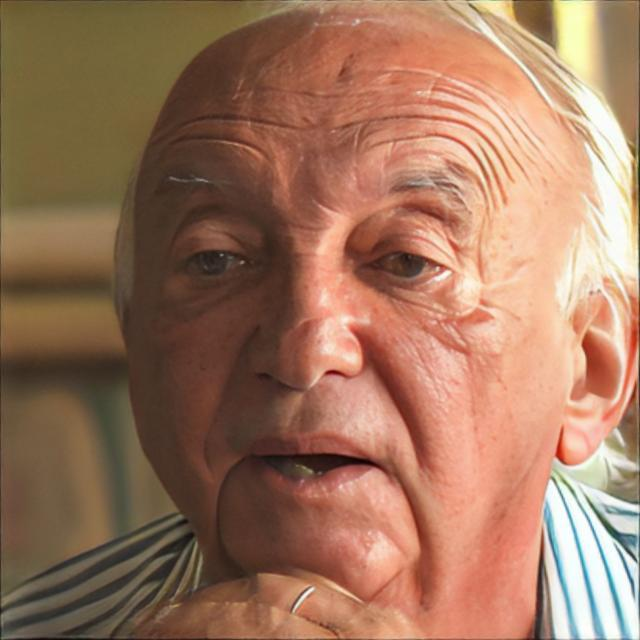surprise: (124, 11, 564, 604)
